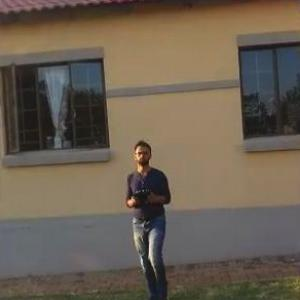follow: (123, 130, 180, 299)
